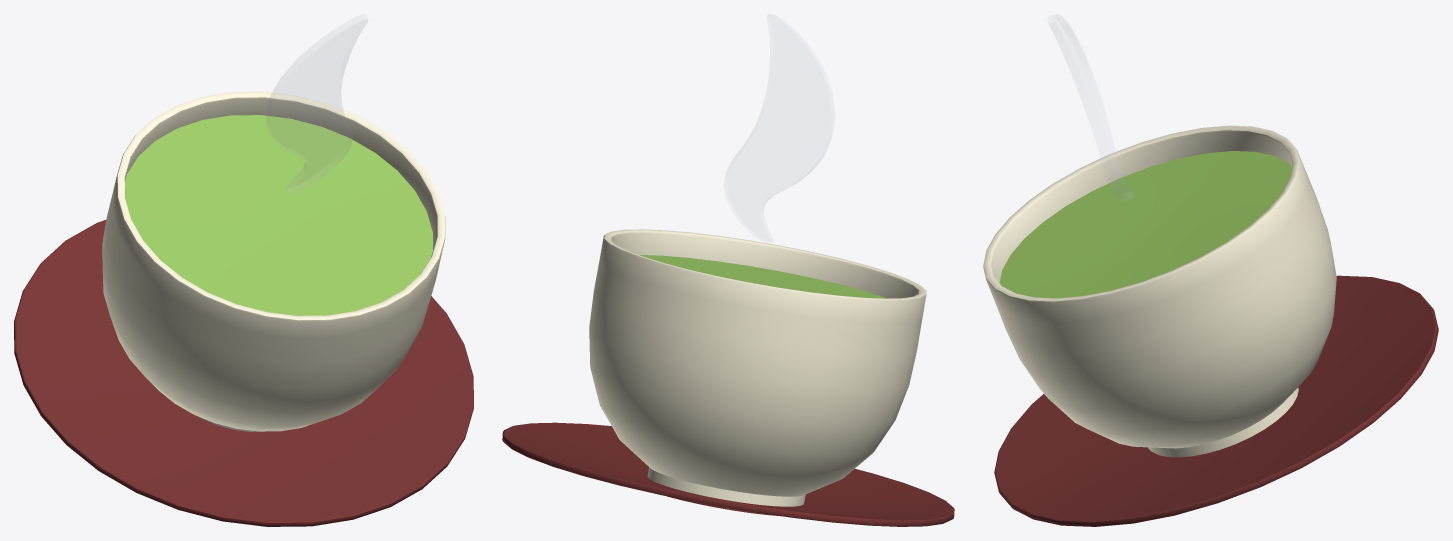
File: teacup_without_handle.glb
The picture shows the model from 3 angles, left to right: view 1: azimuth 30°, elevation 25°; view 2: azimuth 150°, elevation 25°; view 3: azimuth 270°, elevation 25°; orthographic projection. The views are drawn at different scales.
Visible parts, largest first — view 1: Sphere.502; view 2: Sphere.502; view 3: Sphere.502.
Boxes of the visible parts, bbox=[...] form: Sphere.502: bbox=[14, 14, 473, 526]; Sphere.502: bbox=[502, 14, 954, 526]; Sphere.502: bbox=[983, 14, 1438, 526].
Size of the model in its own units: 1.91 by 2.14 by 1.85.
Materials: 2 (1 with a texture image).
